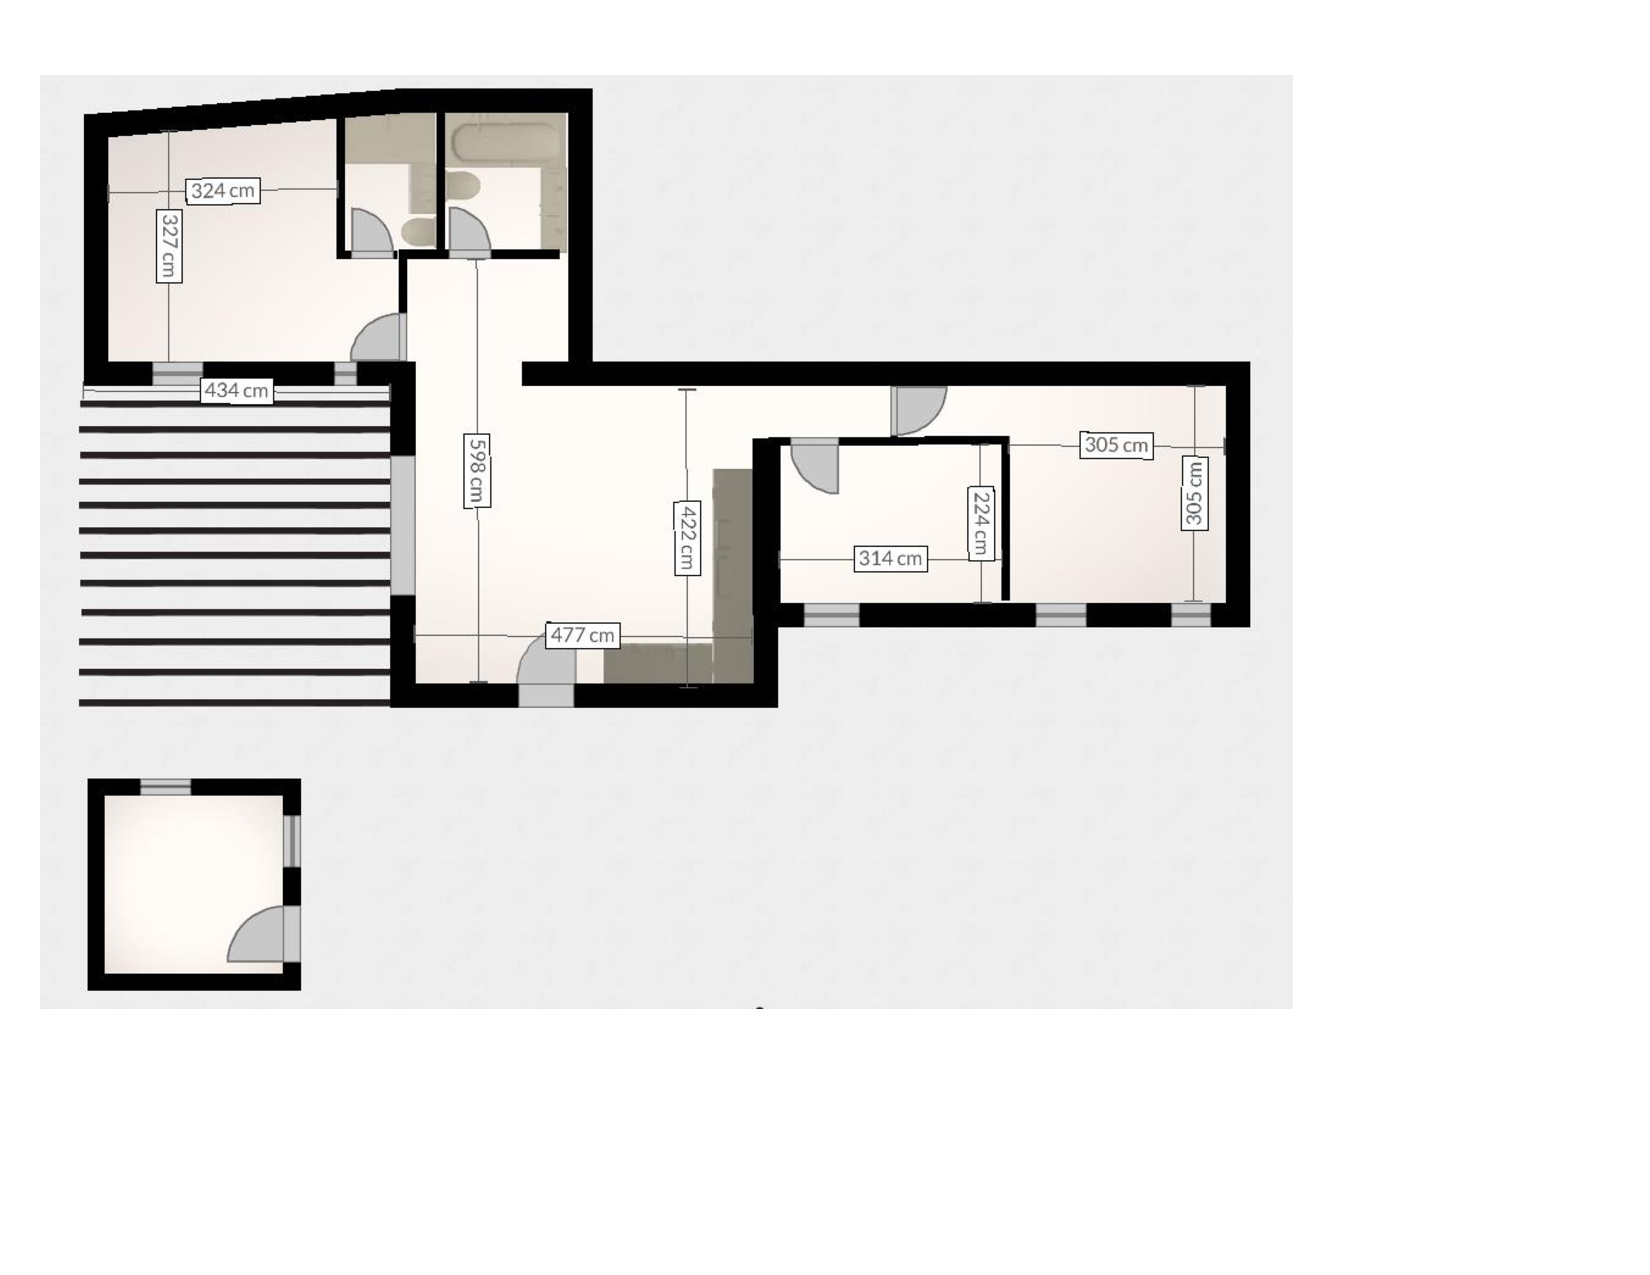door: (197, 888, 276, 967), (786, 447, 850, 504), (329, 311, 392, 362), (893, 387, 951, 433), (350, 200, 392, 245), (446, 205, 494, 244)
wall: (526, 362, 1246, 384), (753, 441, 775, 704), (571, 92, 591, 376), (86, 117, 104, 379), (1228, 366, 1246, 621), (579, 686, 773, 704), (86, 779, 103, 982), (392, 599, 415, 704), (88, 976, 287, 988)
window: (801, 595, 861, 635), (1033, 596, 1087, 637), (273, 812, 309, 865), (137, 774, 192, 804), (1171, 597, 1212, 635)
